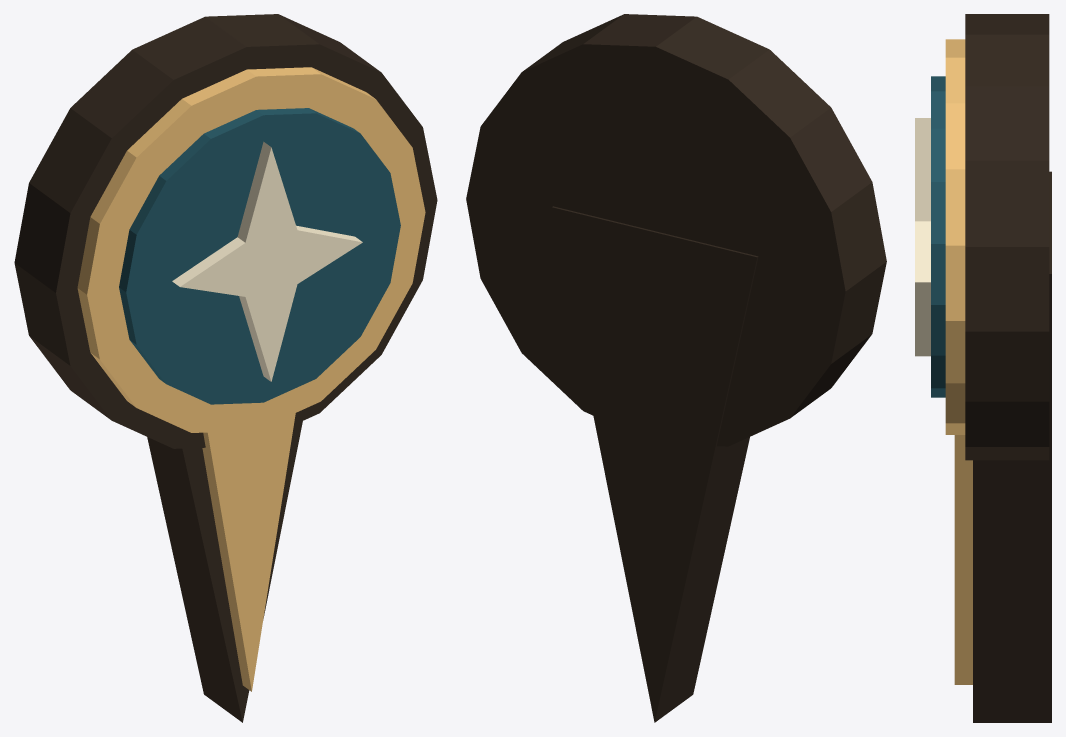
File: atlas_pin.glb
The picture shows the model from 3 angles, left to right: view 1: azimuth 30°, elevation 25°; view 2: azimuth 150°, elevation 25°; view 3: azimuth 270°, elevation 25°; orthographic projection.
Parts seen in each view (by area): view 1: Emailfläche, Kontur des Kartenzeichens, Messingring, Kompassrose, Messingeinlage, Standspitze; view 2: Kontur des Kartenzeichens, Standspitze; view 3: Kontur des Kartenzeichens, Standspitze, Messingring, Emailfläche, Messingeinlage, Kompassrose.
Boxes of the visible parts, x1,y1,x2,y2 form: Emailfläche: (119,108,400,404); Kontur des Kartenzeichens: (14,14,437,448); Messingring: (77,67,425,432); Kompassrose: (172,141,362,381); Messingeinlage: (202,413,295,691); Standspitze: (147,421,302,722); Kontur des Kartenzeichens: (466,14,886,446); Standspitze: (552,206,758,722); Kontur des Kartenzeichens: (965,14,1049,460); Standspitze: (973,171,1051,722); Messingring: (945,39,965,434); Emailfläche: (931,76,945,397); Messingeinlage: (954,435,972,684); Kompassrose: (915,118,930,356).
Bounding box in the file's own units: 0.85 × 1.44 × 0.2605.
